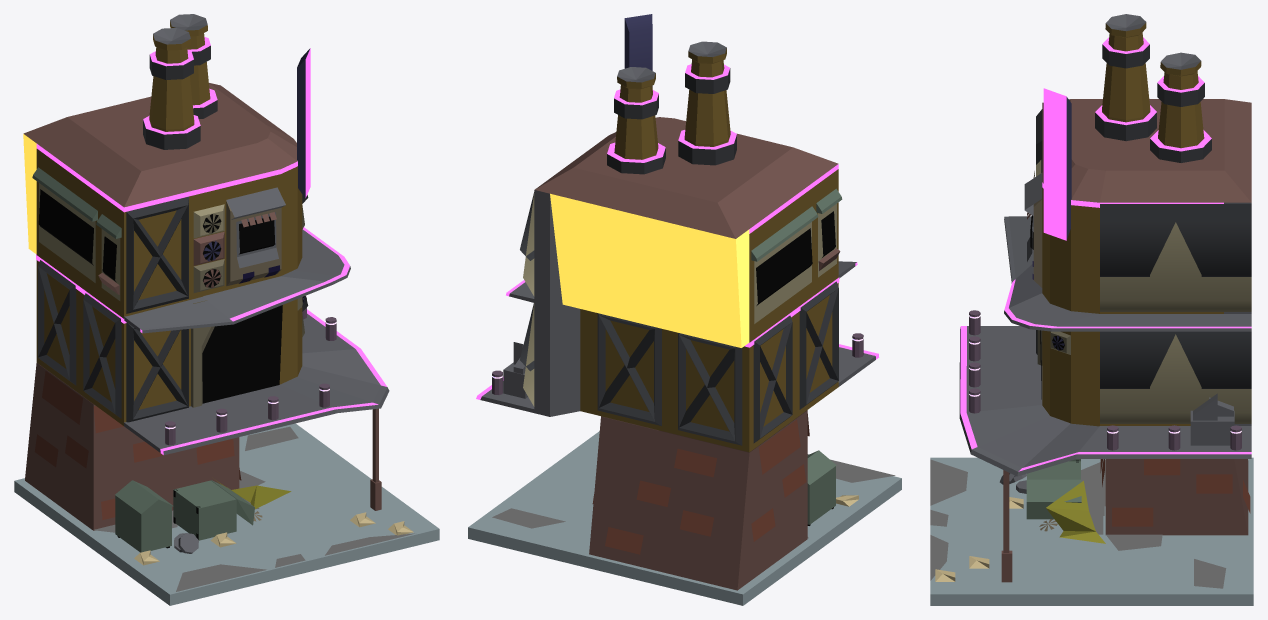
File: Slums2.fbx
3 views of the same model, side by side, from view 1: azimuth 30°, elevation 25°; view 2: azimuth 150°, elevation 25°; view 3: azimuth 270°, elevation 25° (orthographic). The views are drawn at different scales.
Visible parts, largest first — view 1: Road.048, Road.046; view 2: Road.048, Road.046; view 3: Road.048, Road.046.
Part boxes in pixels (x1,y1,x2,y2): Road.048: (23,14,414,591); Road.046: (14,423,439,605); Road.048: (476,14,895,590); Road.046: (468,431,901,605); Road.048: (930,14,1251,588); Road.046: (930,457,1253,605).
Size of the model in its own units: 200 by 339 by 200.
